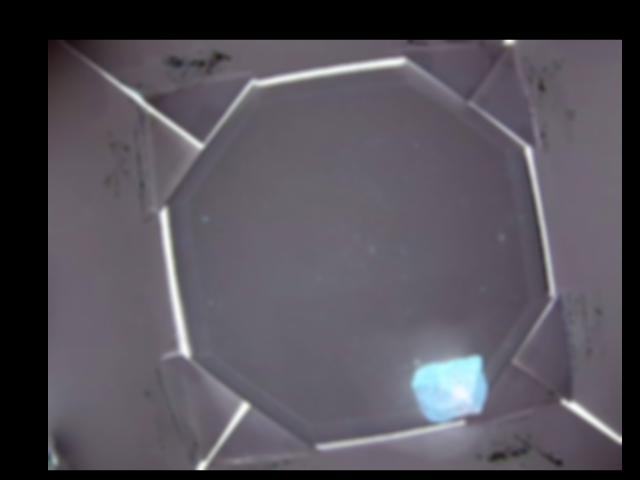Brisk: (412, 352, 486, 425)
